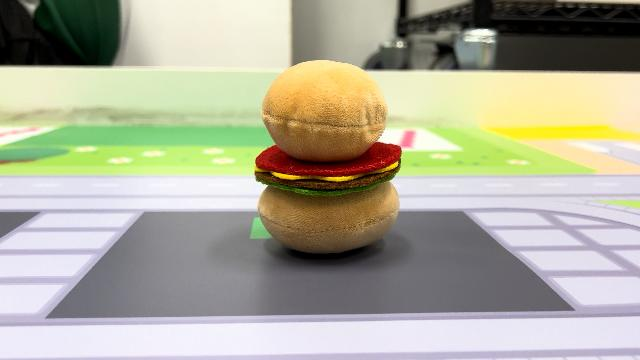burger: (249, 56, 407, 256)
